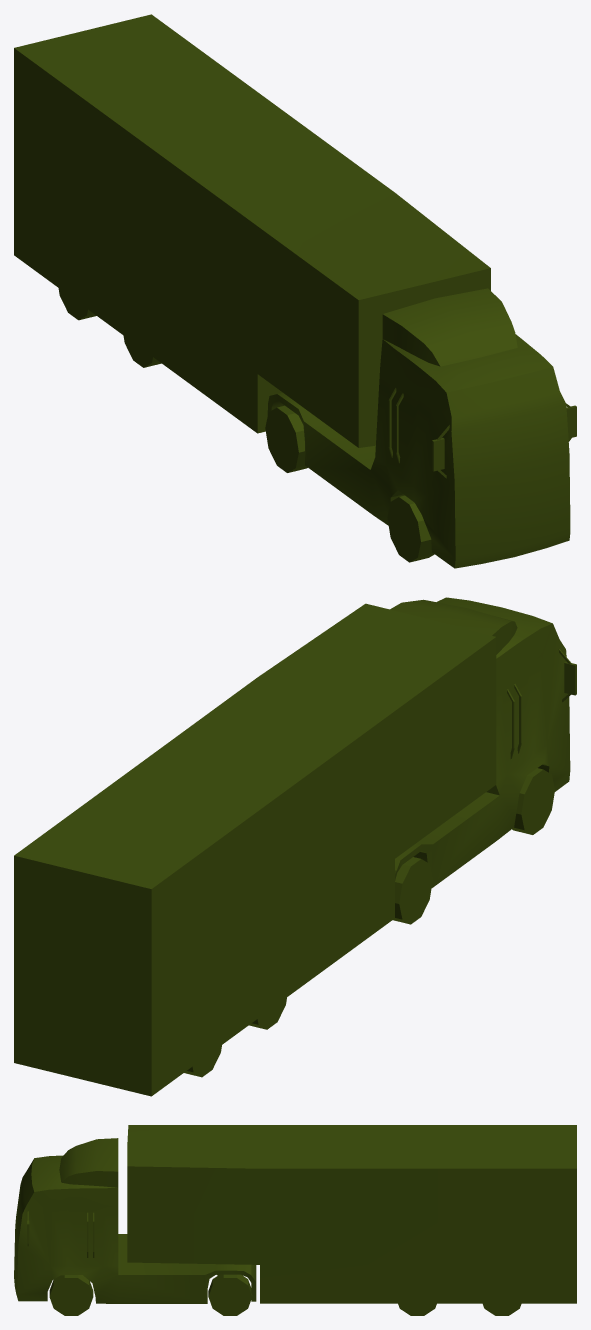
File: Vehicle05C_M.fbx
The picture shows the model from 3 angles, top to bottom: view 1: azimuth 30°, elevation 25°; view 2: azimuth 150°, elevation 25°; view 3: azimuth 270°, elevation 25°; orthographic projection. The views are drawn at different scales.
Visible parts, largest first — view 1: Vehicle05C; view 2: Vehicle05C; view 3: Vehicle05C.
Part boxes in pixels (bbox=[...]): Vehicle05C: bbox=[14, 14, 576, 568]; Vehicle05C: bbox=[14, 597, 576, 1096]; Vehicle05C: bbox=[14, 1125, 576, 1315].
Size of the model in its own units: 1.81 by 2.74 by 9.43.
